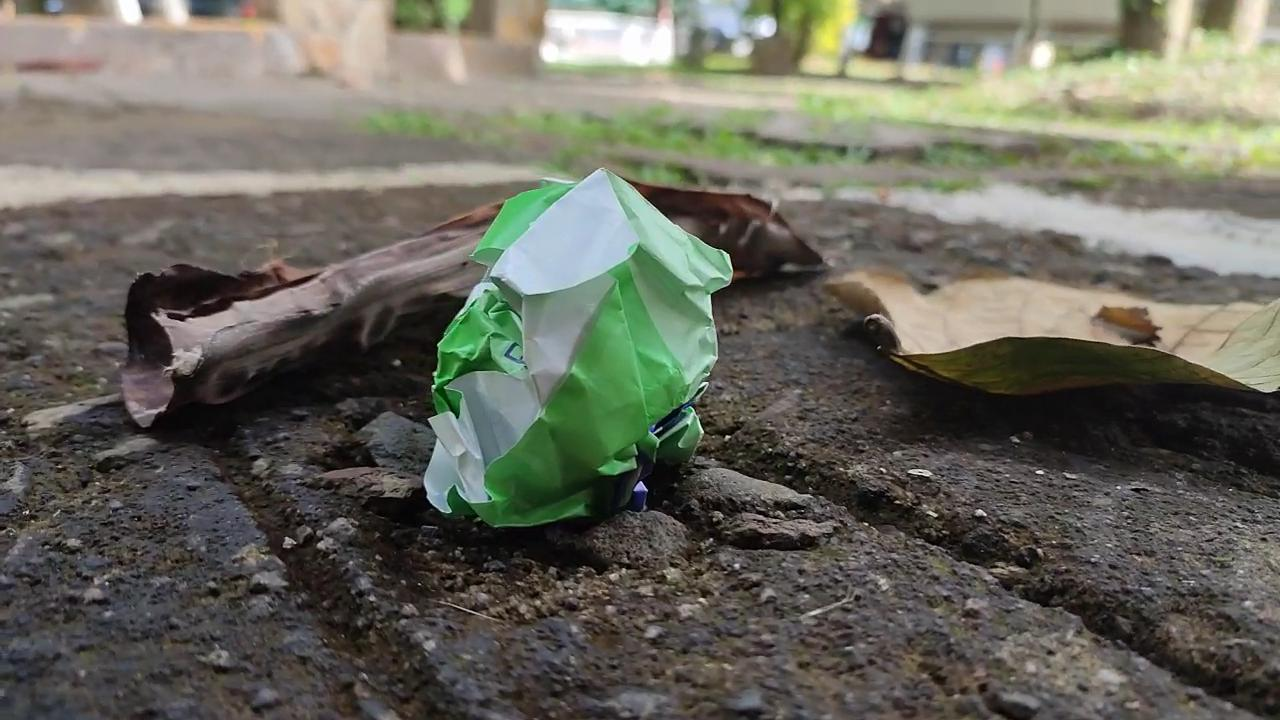Paper: (422, 163, 734, 548)
